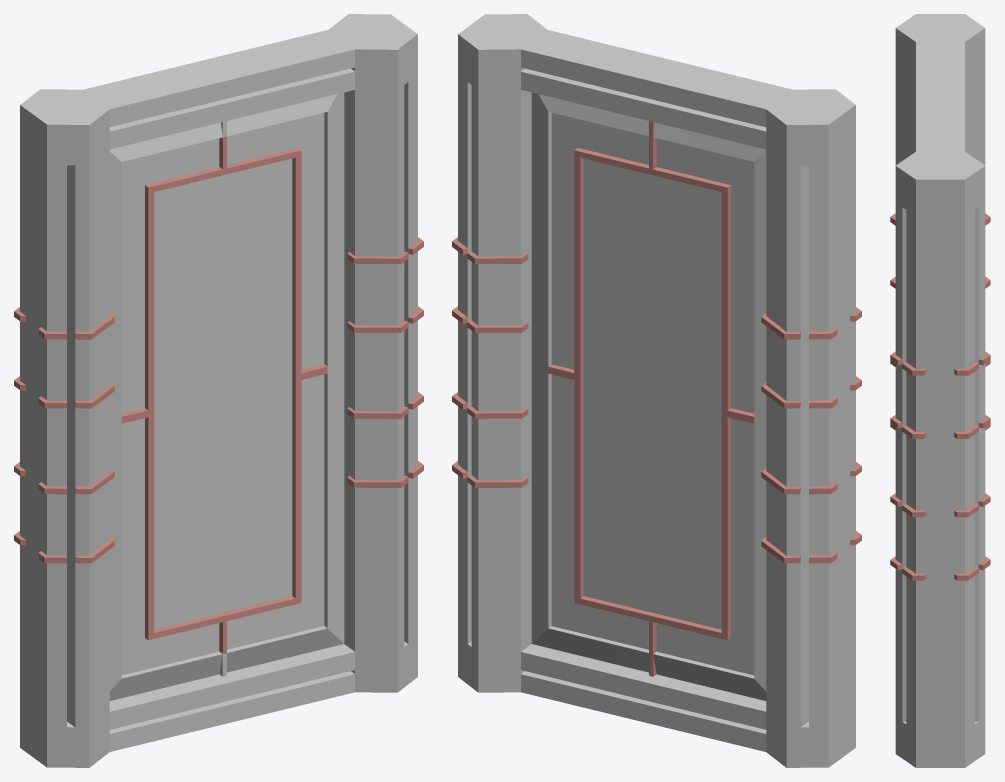
Rendered from porte_Snap.fbx.
The picture shows the model from 3 angles, left to right: view 1: azimuth 30°, elevation 25°; view 2: azimuth 150°, elevation 25°; view 3: azimuth 270°, elevation 25°; orthographic projection. The views are drawn at different scales.
Visible parts, largest first — view 1: porte_L1_F.003; view 2: porte_L1_F.003; view 3: porte_L1_F.003.
Boxes of the visible parts, left/top/right/bottom form: porte_L1_F.003: left=14, top=14, right=423, bottom=767; porte_L1_F.003: left=452, top=14, right=861, bottom=767; porte_L1_F.003: left=890, top=14, right=990, bottom=767.
Size of the model in its own units: 0.1 by 0.162 by 0.025.
